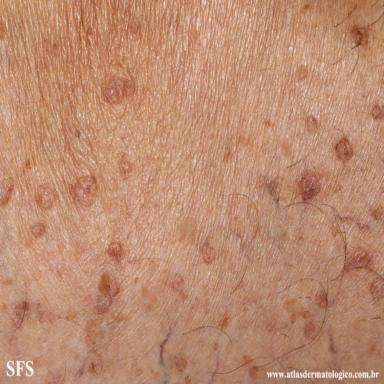Porokeratosis: (97, 272, 119, 314), (103, 75, 134, 104), (71, 175, 97, 207), (298, 171, 320, 201), (345, 248, 372, 272), (36, 184, 56, 210), (335, 138, 353, 162), (350, 26, 369, 46), (119, 155, 133, 178), (107, 242, 123, 262), (371, 278, 384, 300), (202, 242, 215, 264), (304, 320, 319, 337), (172, 274, 185, 293), (31, 222, 46, 238), (315, 289, 327, 308), (371, 104, 384, 120), (306, 116, 318, 132), (175, 358, 187, 372), (298, 65, 308, 80), (130, 20, 139, 35), (250, 366, 258, 379)
